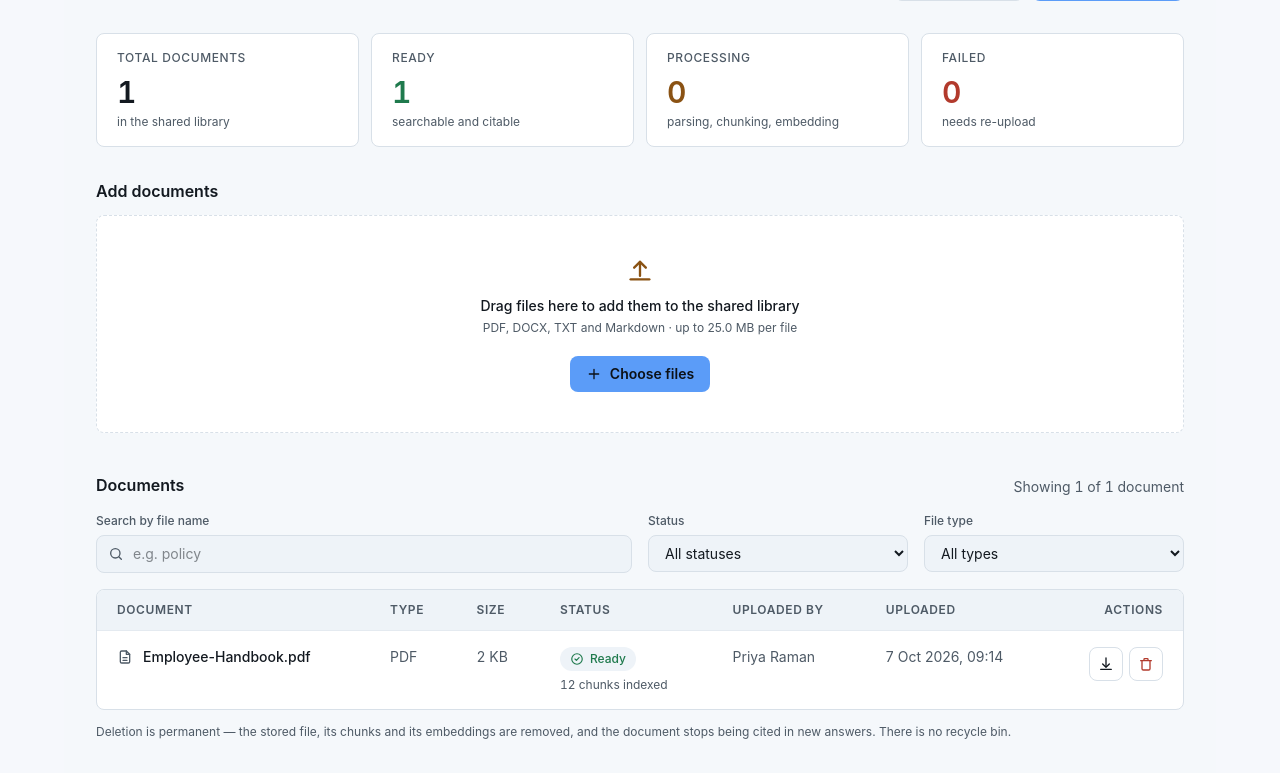
Test: KnowledgeBase › a failed delete shows the server's own detail text inline, and the row remains
(page scrolled)
expect the text "Employee-Handbook.pdf" is shown: met, box [143, 646, 311, 666]
Click the button named "Delete Employee-Handbook.pdf" at [1146, 664], box [1129, 646, 1163, 680]
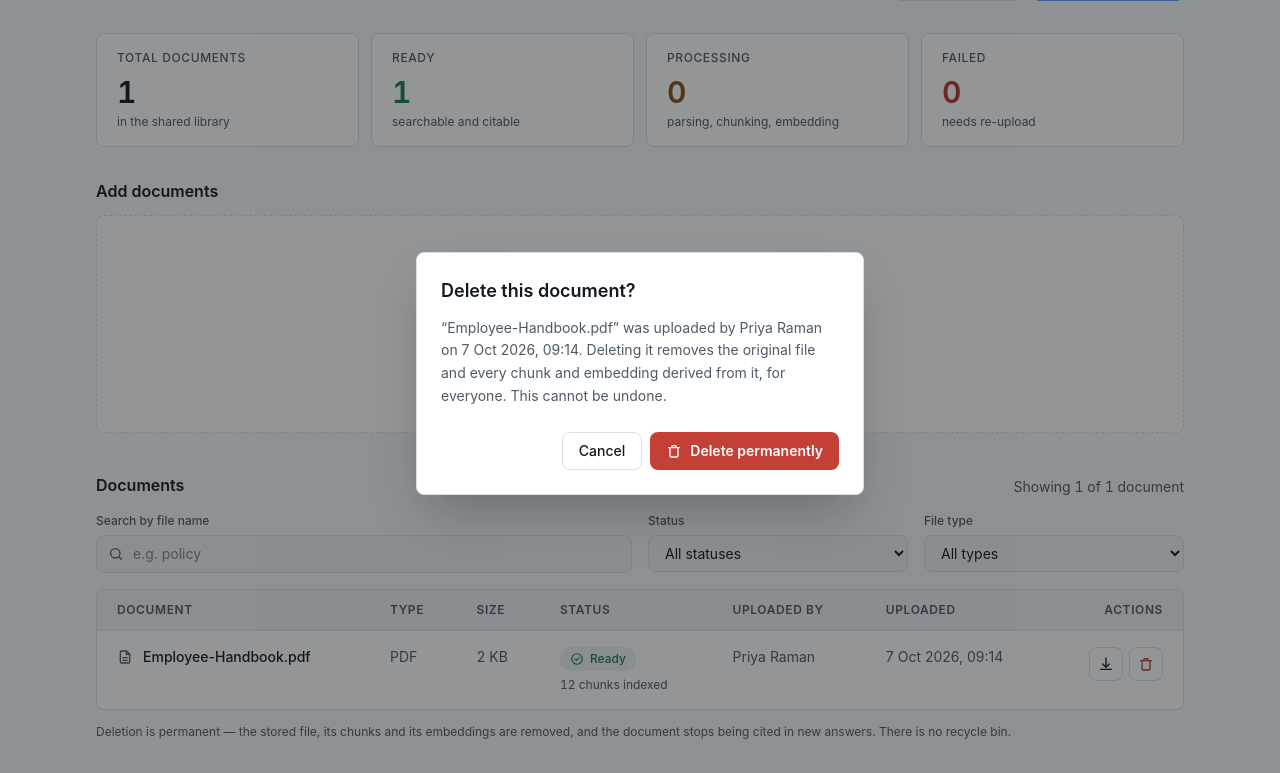
Click the button "Delete permanently" at [745, 450], box [650, 432, 839, 470]
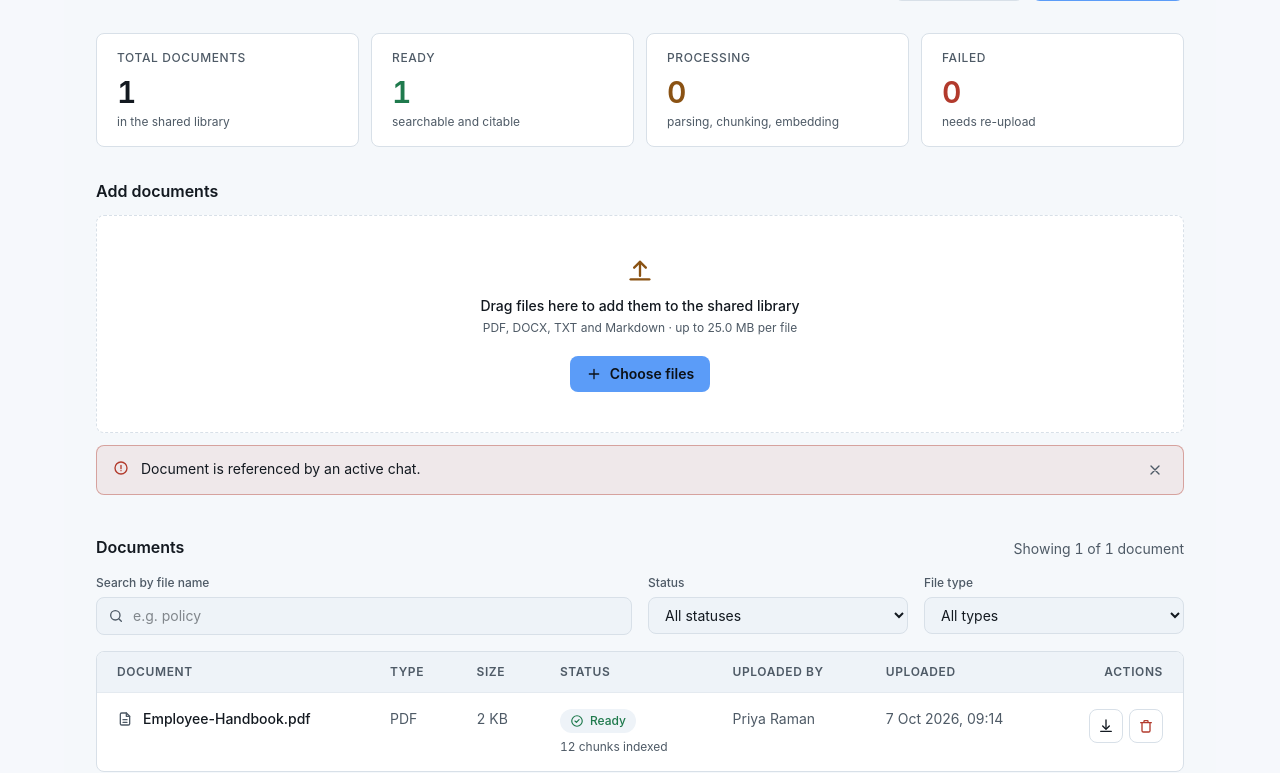
expect the text "Employee-Handbook.pdf" is shown: met, box [143, 708, 311, 728]
expect the text "Document is referenced by an active chat." is shown: met, box [140, 458, 420, 476]
